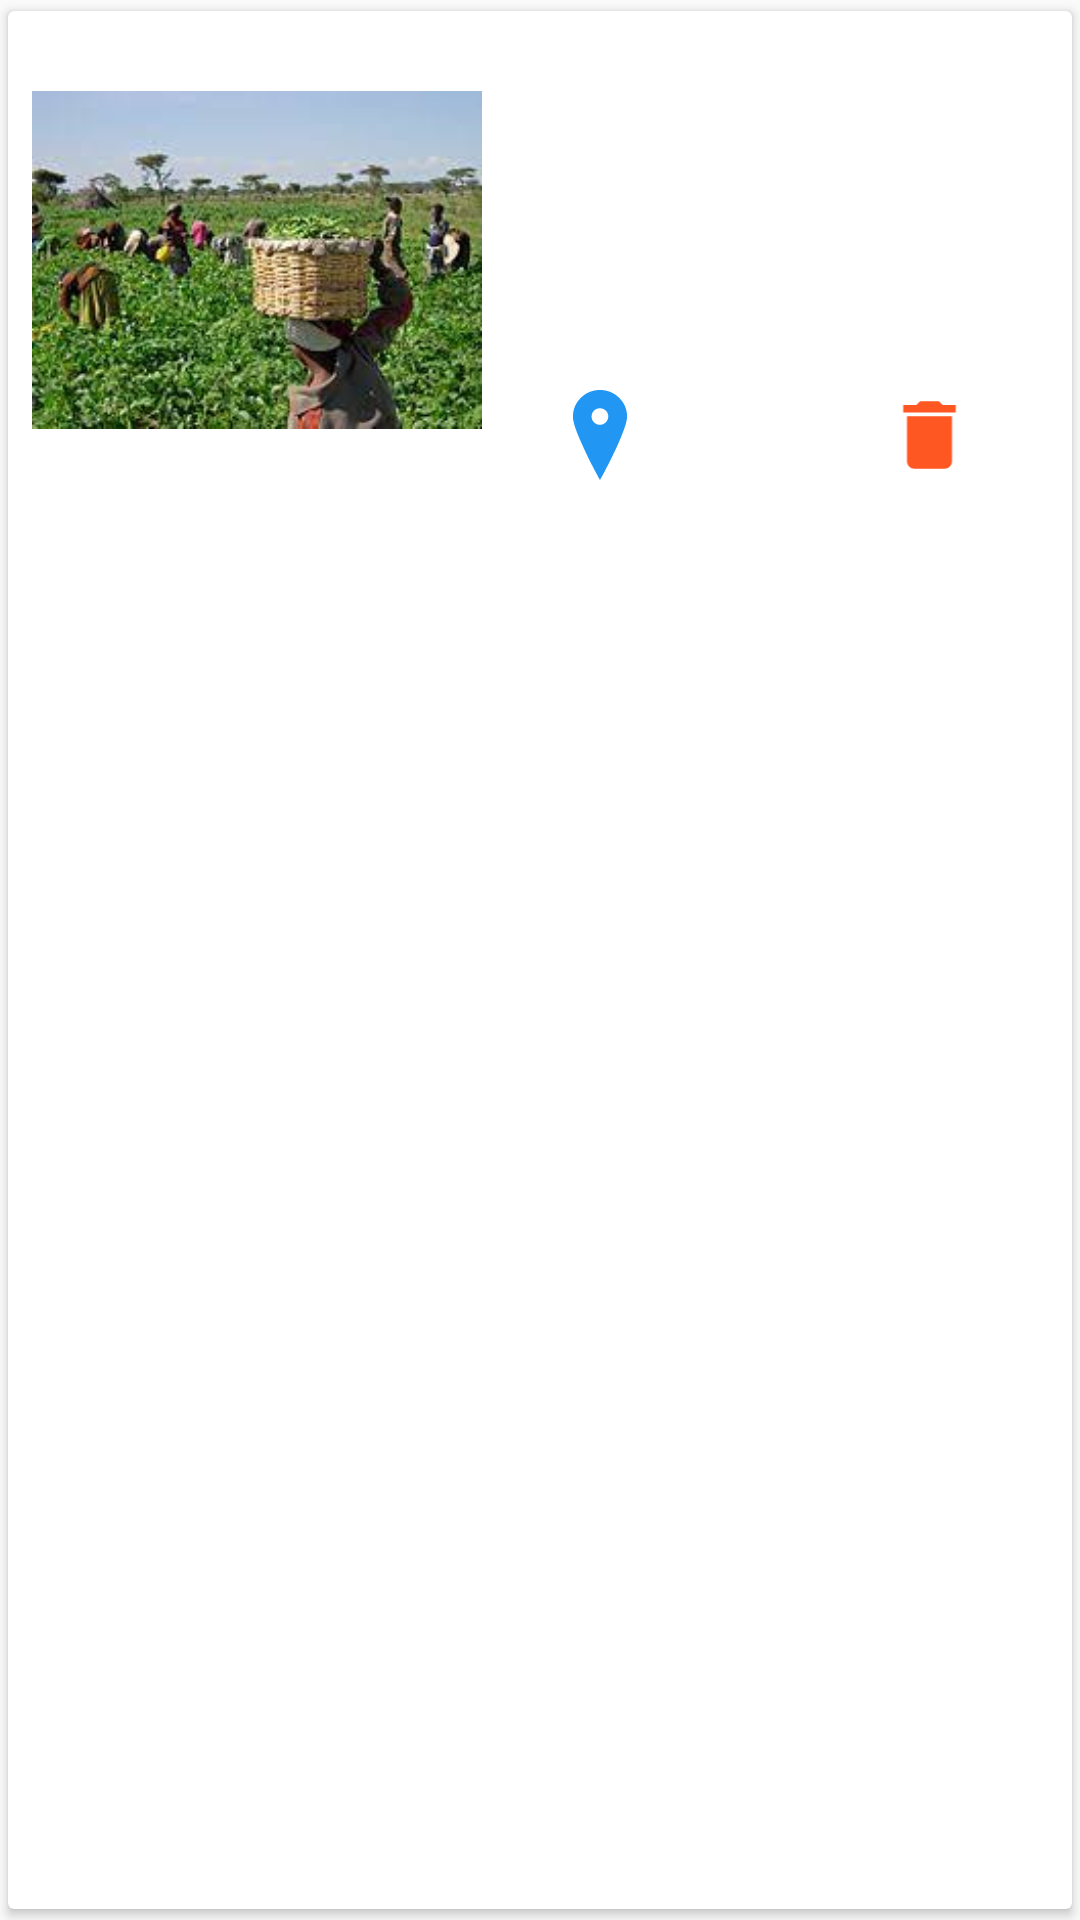

Point at icon controls on the screen. Image size 1080x1920, points as (x=x, y=y).
delete: (x=929, y=435)
map localization: (x=600, y=435)
